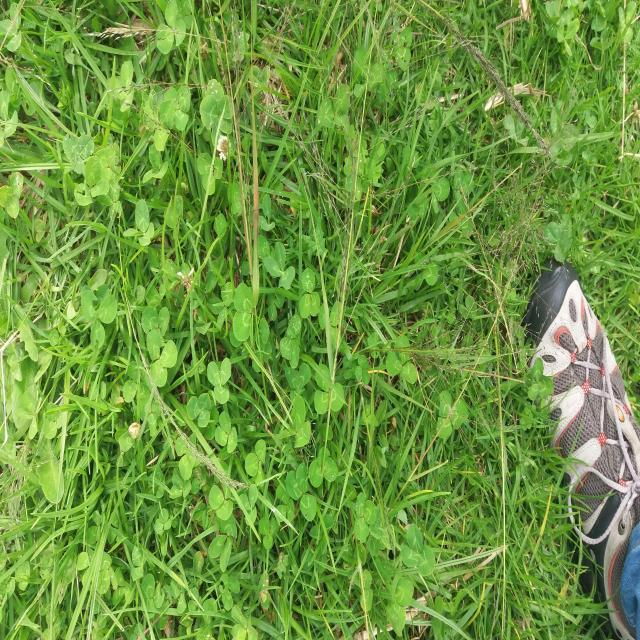Four Leaf Clover: (199, 78, 232, 147)
